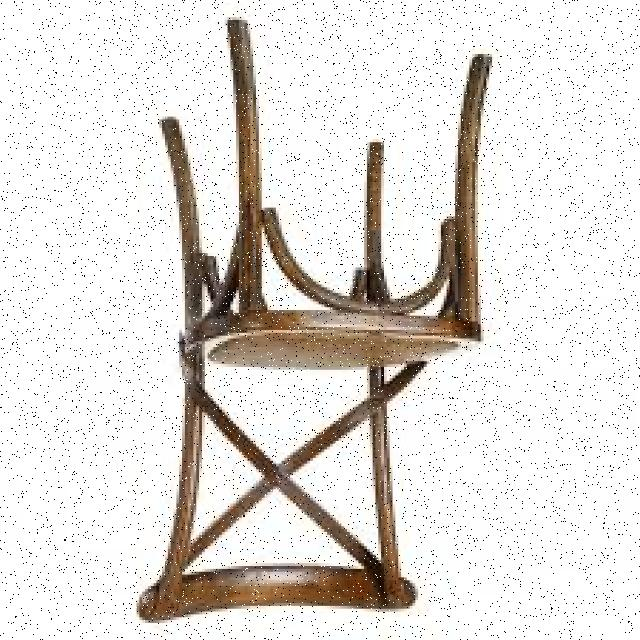bottle: (133, 19, 493, 632)
